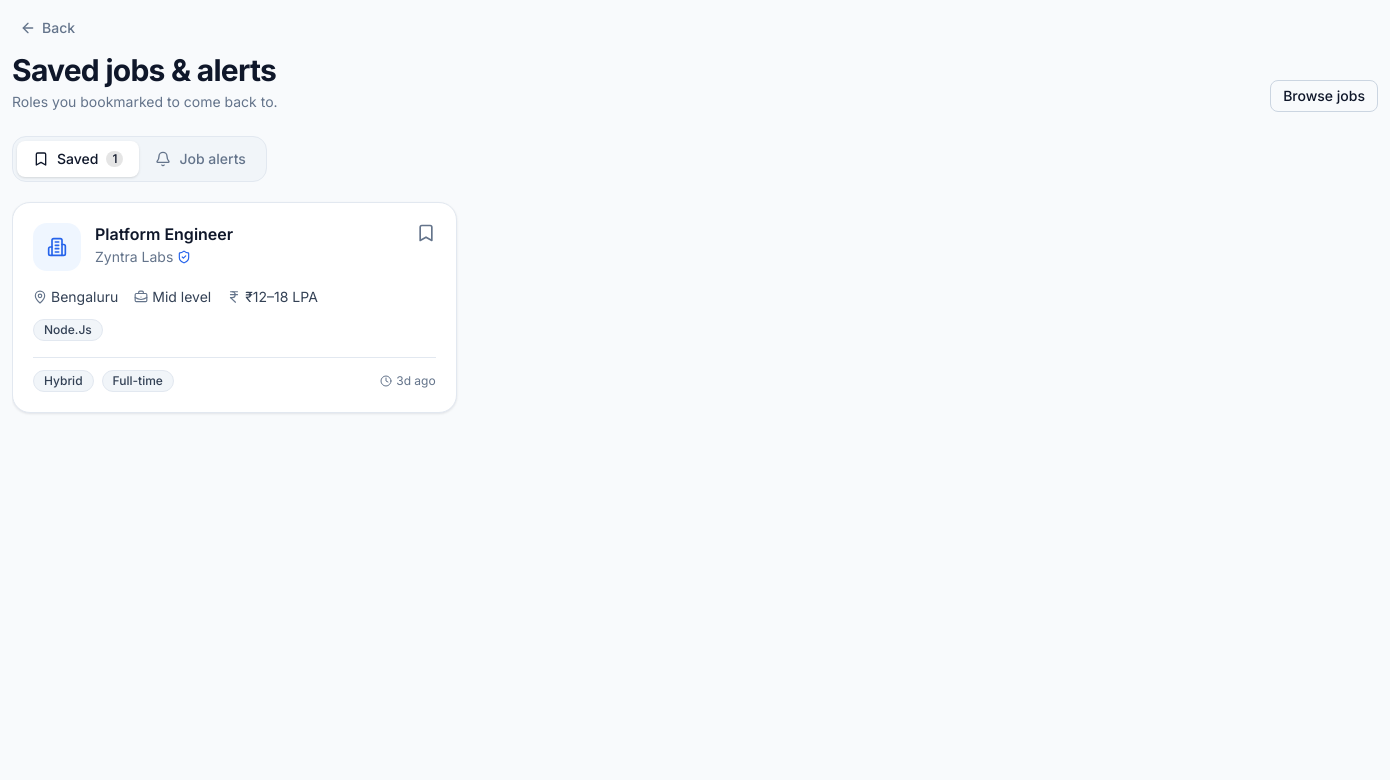
Test case: saved jobs & job alerts › lists saved jobs and switches to alerts built from fresh recommendations
The image size is (1390, 780).
Check: the heading "Platform Engineer" is shown, box [95, 224, 233, 244]
Click the tab "Job alerts" at {"x": 201, "y": 159}, box [139, 141, 262, 177]
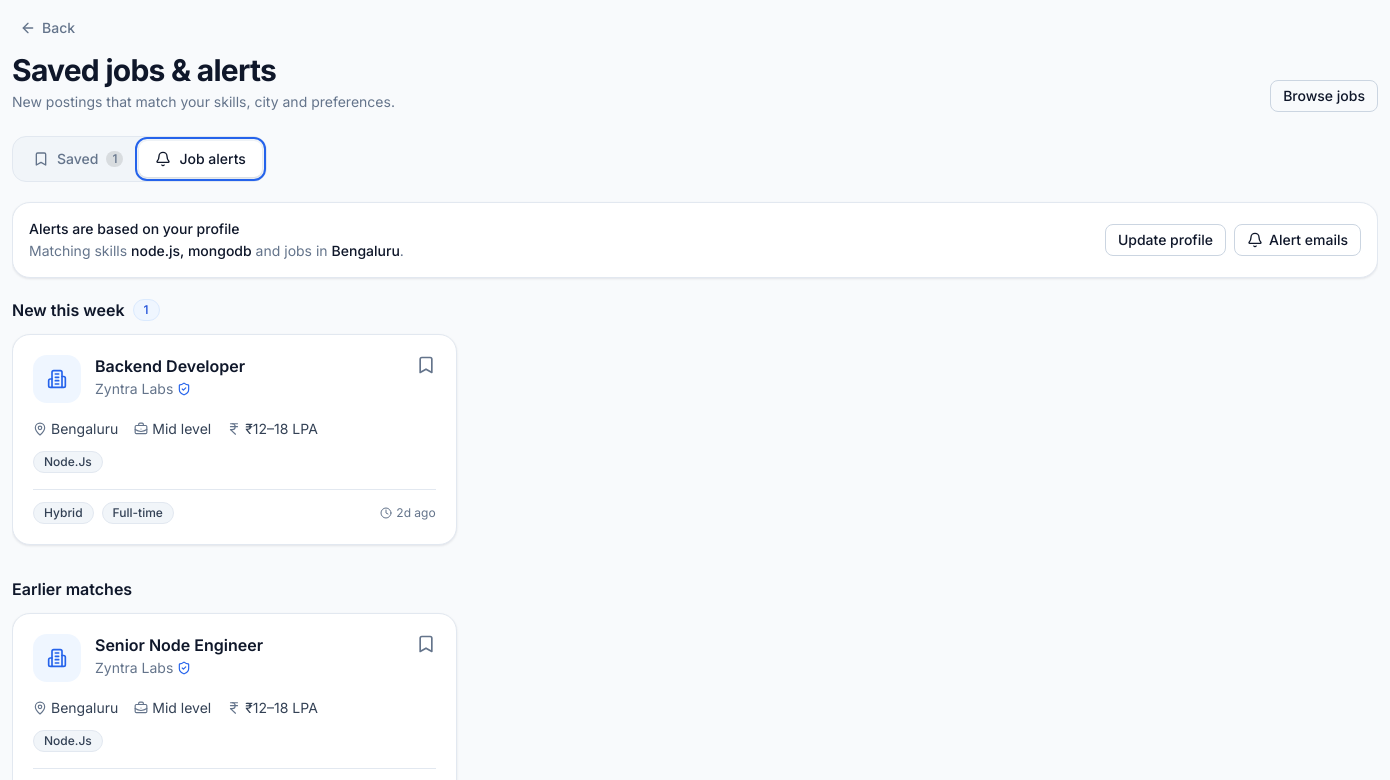
Check: the heading "Backend Developer" is shown, box [95, 356, 245, 376]
Check: the heading "Earlier matches" is shown, box [12, 579, 132, 599]
Check: the heading "Senior Node Engineer" is shown, box [95, 635, 263, 655]
